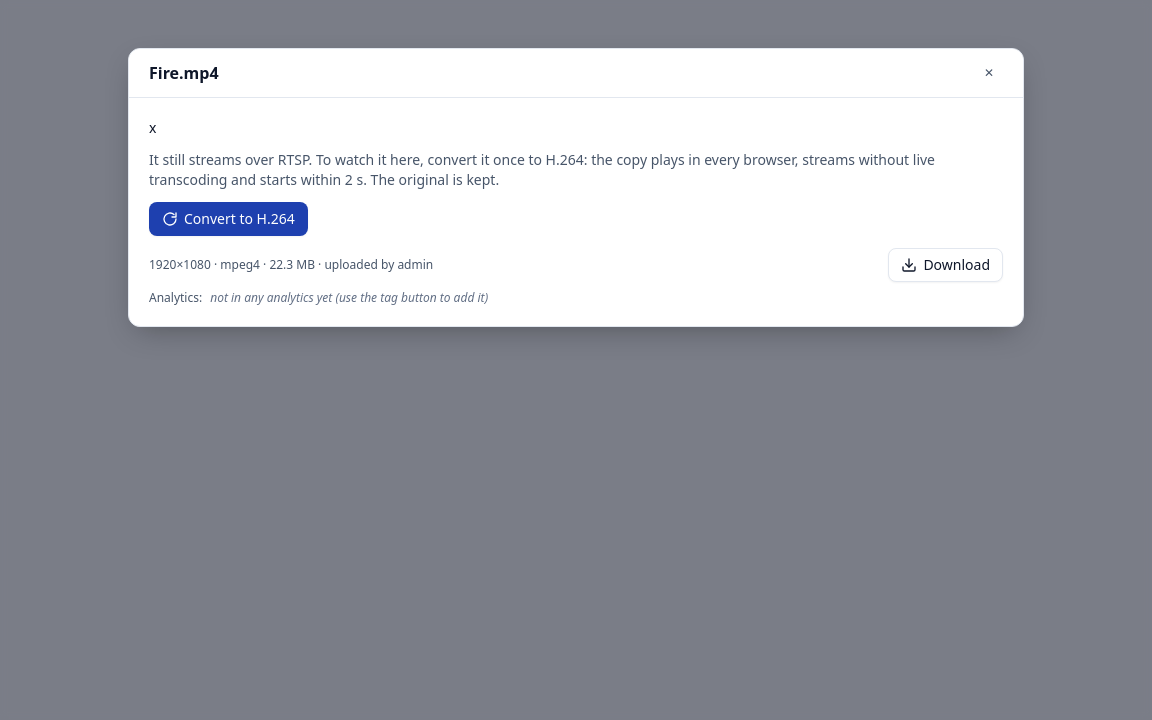
Test: Library play and download › shows why a conversion could not start inside the player
Click the button "Convert to H.264": point(228, 219) [149,202,308,236]
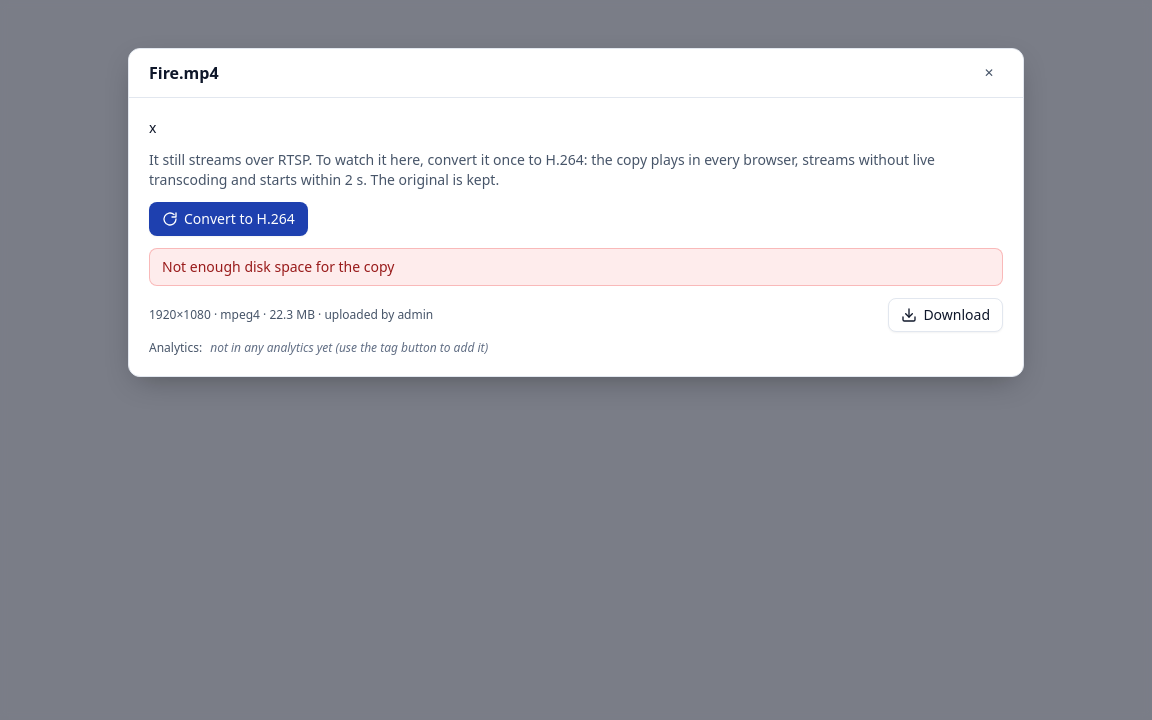
Check: the text "Not enough disk space for the copy" is shown, box [149,248,1003,286]
